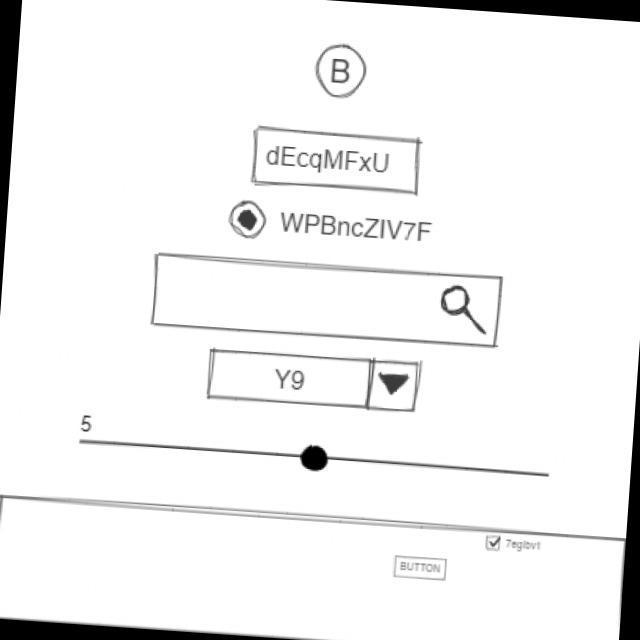button: (392, 553, 450, 583)
checkbox: (484, 534, 545, 557)
container: (1, 490, 626, 640)
icon-button: (312, 41, 372, 103)
input: (248, 124, 427, 199)
radio: (226, 198, 436, 254)
search: (148, 250, 507, 353)
select: (203, 345, 425, 416)
slider: (93, 427, 554, 492)
